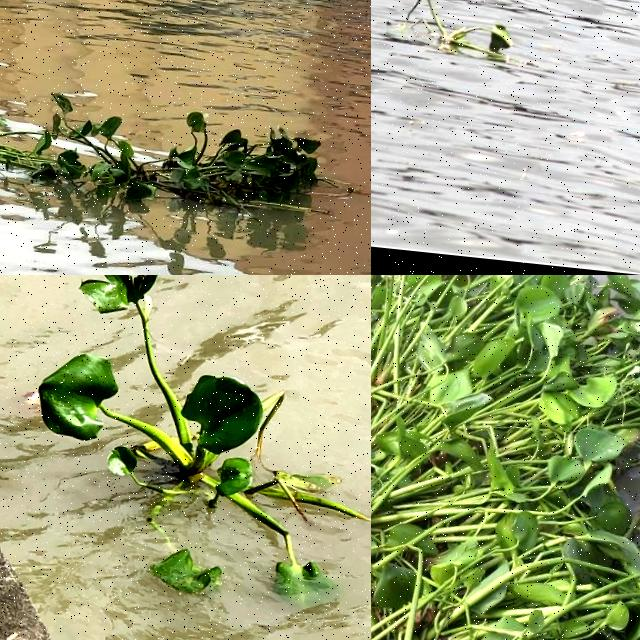water-hyacinth: (16, 276, 372, 633), (372, 276, 640, 640), (1, 74, 359, 225), (389, 1, 526, 71)
